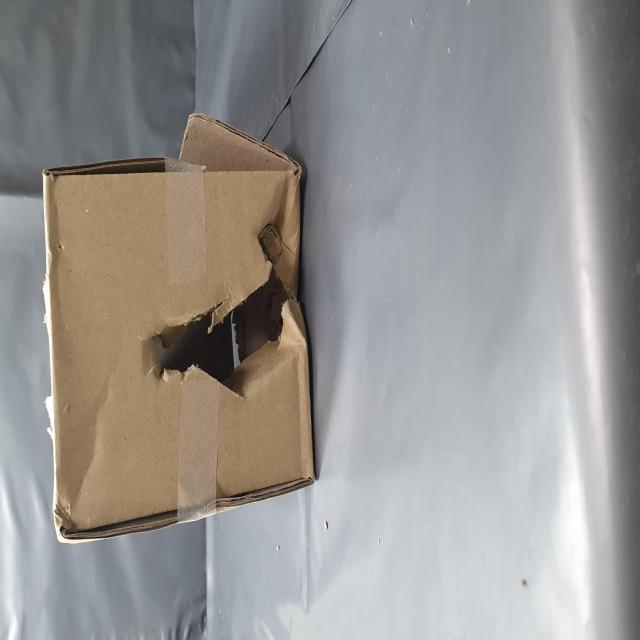damaged: (139, 271, 240, 546)
